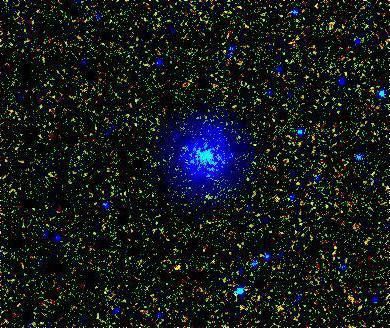star: (194, 183, 224, 213)
